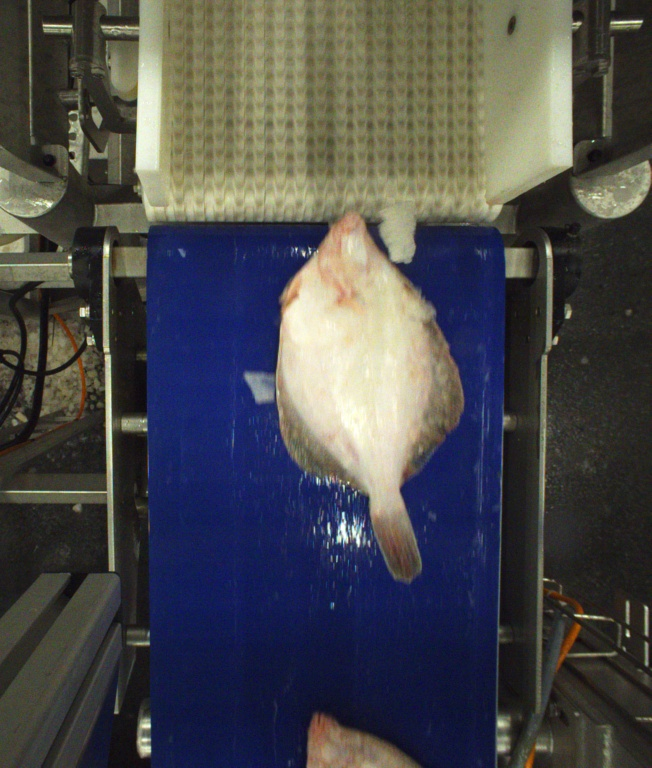PLE: (272, 213, 466, 578)
